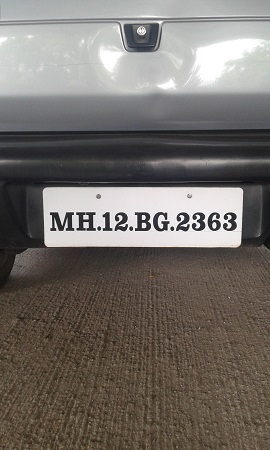licenseplate: (41, 183, 245, 249)
